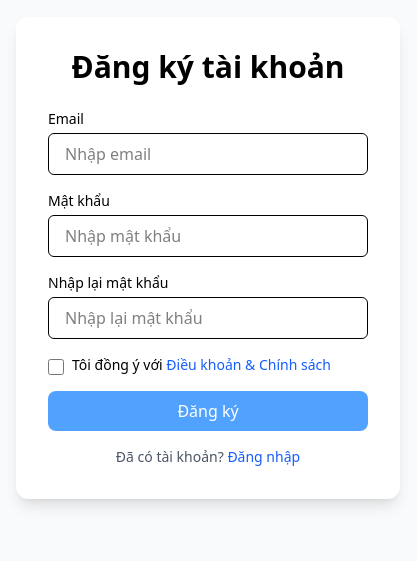
Test: hiển thị lỗi validate khi submit form rỗng
Note: tick agree để nút không bị disabled
What coordinates should you click on to do the following:
click the checkbox labelled "Tôi đồng ý với Điều khoản & Chính sách"
I would click on:
 (56, 367)
Its box is [48,359,64,375].
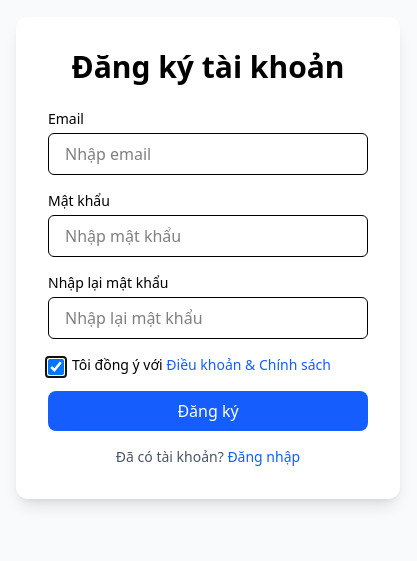
What coordinates should you click on to do the following:
click the button "Đăng ký"
I would click on:
 (208, 411)
Its box is [48,391,368,431].
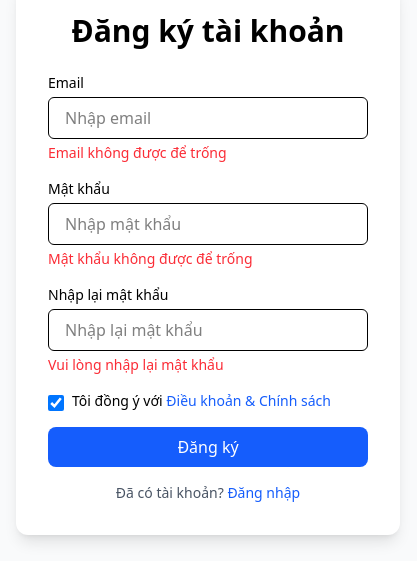
Expected: the text "Email không được để trống" is shown, [48,143,227,162]
Expected: the text "Vui lòng nhập lại mật khẩu" is shown, [48,355,224,374]
